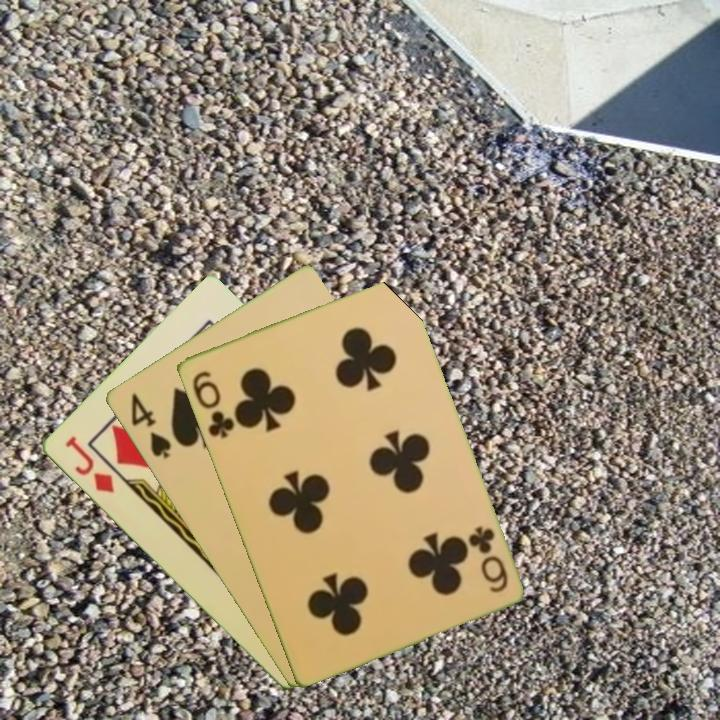4s: (126, 389, 174, 461)
6c: (188, 367, 237, 442), (464, 522, 511, 596)
Jd: (60, 432, 117, 496)
